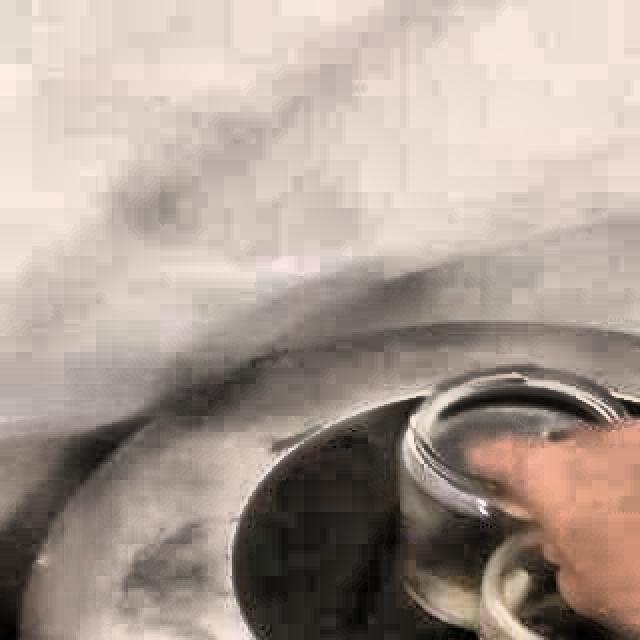glass: (397, 368, 629, 640)
